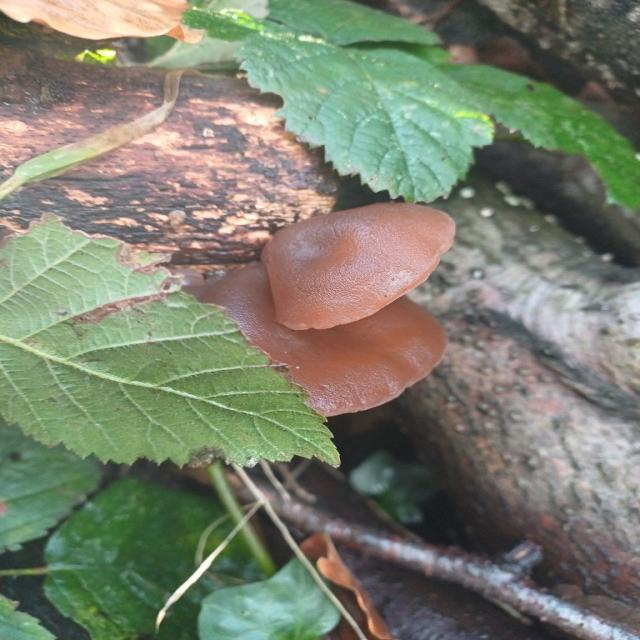Matang: (155, 257, 456, 428), (246, 198, 462, 332)
